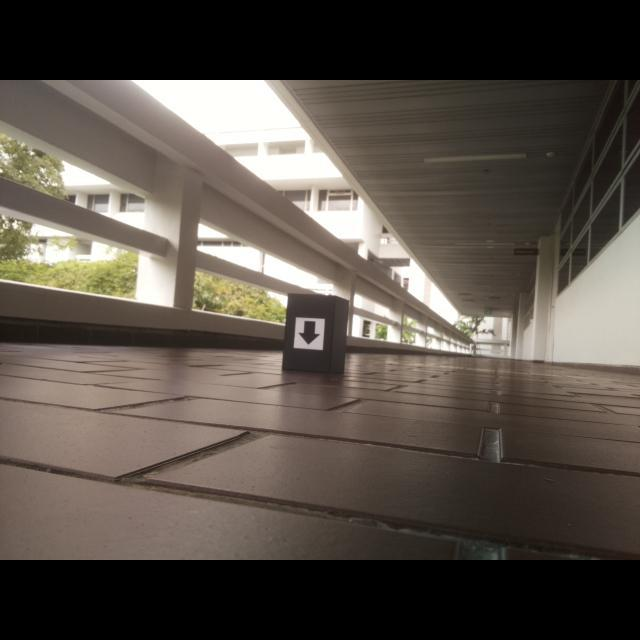DOWN: (297, 320, 321, 346)
